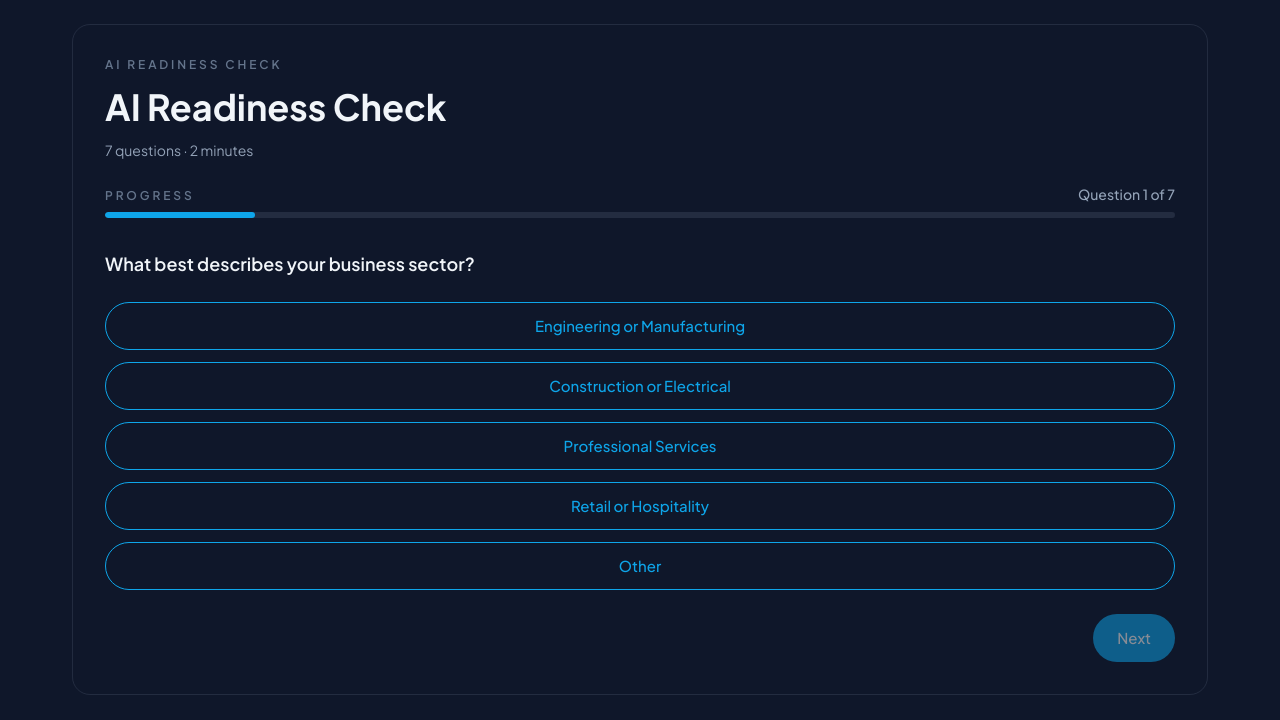
Test: ReadinessCheck answer submission wiring › advances away from the previous question after a non-complete answer response
Expected: the text "What best describes your business sector?" is shown, x1=105 y1=252 x2=475 y2=275
Click the button "Engineering or Manufacturing" at point(640, 326), box x1=105 y1=302 x2=1175 y2=350
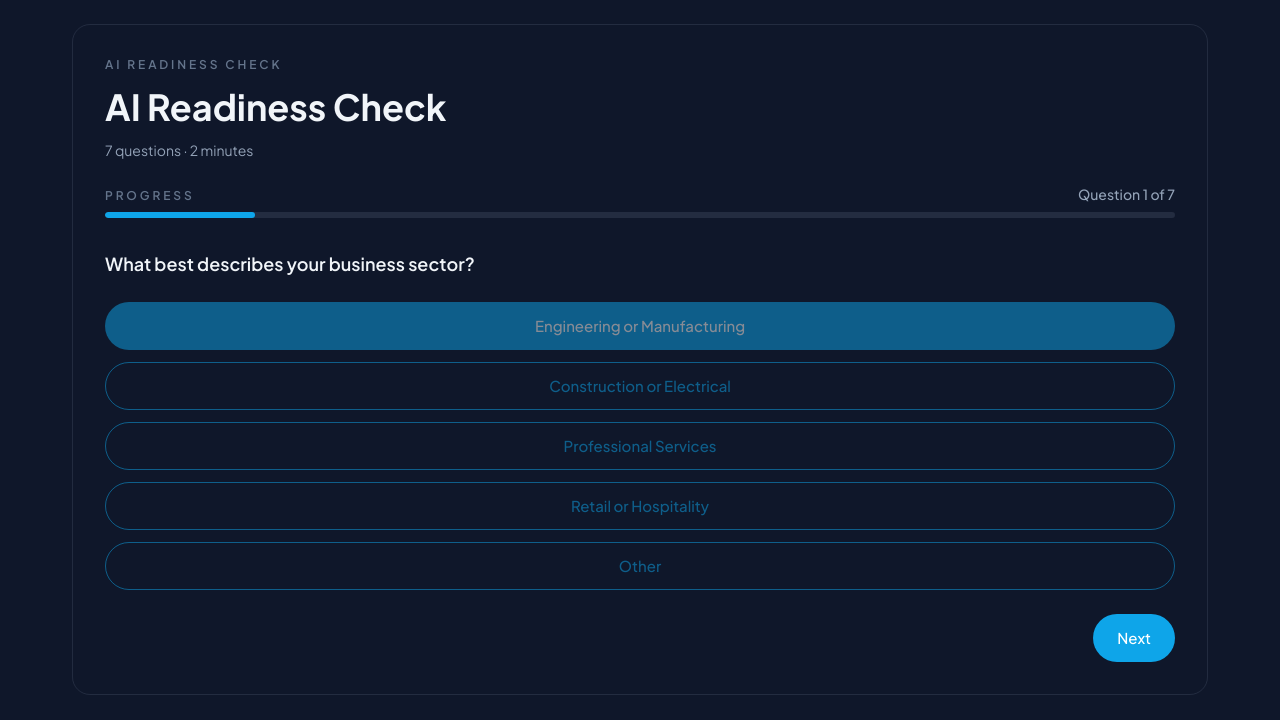
Click the button "Next" at point(1134, 638), box x1=1093 y1=614 x2=1175 y2=662
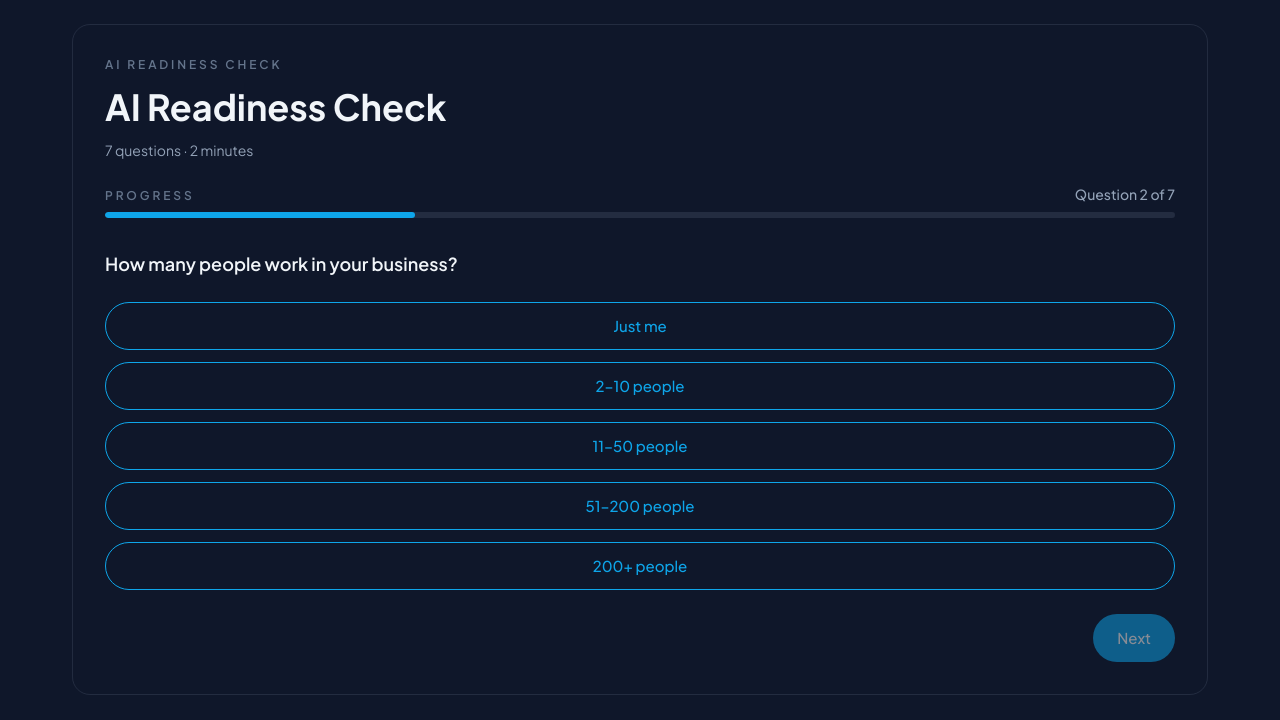
Result: the text "What best describes your business sector?" is gone
Result: the text "How many people work in your business?" is shown at x1=105 y1=252 x2=458 y2=275
